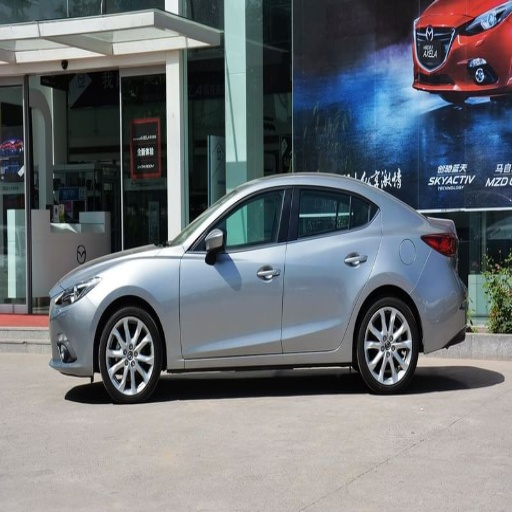_background_: (416, 281, 467, 347)
back_glass: (283, 182, 381, 352)
back_left_door: (423, 230, 458, 258)
back_right_light: (414, 10, 509, 94), (52, 297, 84, 347)
front_glass: (180, 184, 291, 360)
front_left_door: (52, 277, 98, 306)
trunk: (355, 297, 419, 393), (97, 307, 162, 401)
